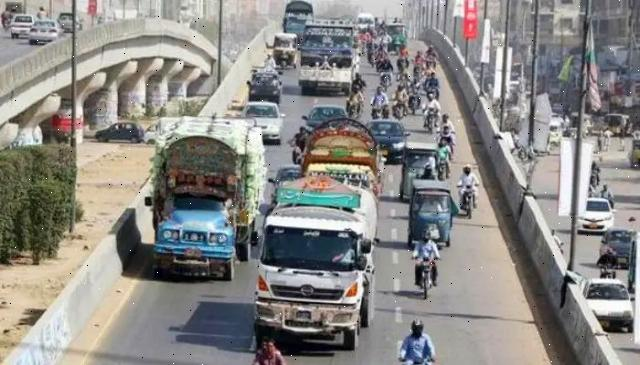Bike: (413, 257, 437, 302), (459, 182, 477, 218)
Car: (584, 279, 635, 333), (242, 102, 284, 142), (368, 118, 409, 155), (580, 197, 617, 236)
Person: (394, 317, 438, 360), (410, 228, 442, 261), (456, 164, 478, 189)
Rickshaw: (407, 179, 455, 247), (398, 142, 438, 200)
Truck: (254, 185, 378, 352), (145, 125, 254, 283), (301, 126, 385, 188), (297, 19, 358, 95)
